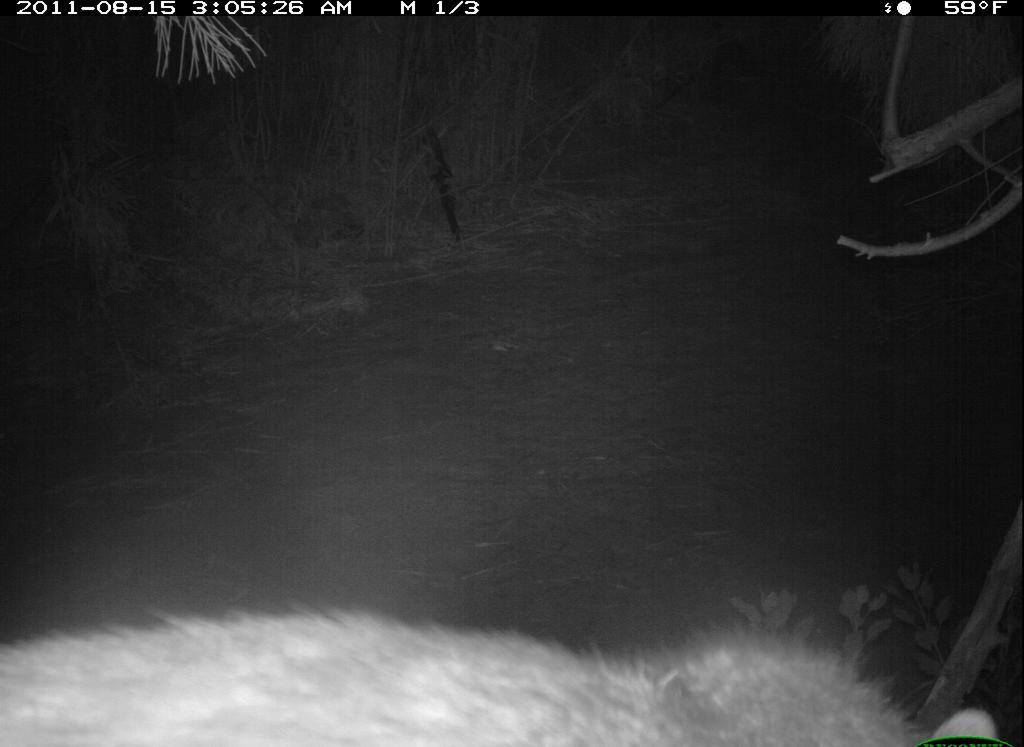raccoon: (4, 597, 1001, 747)
